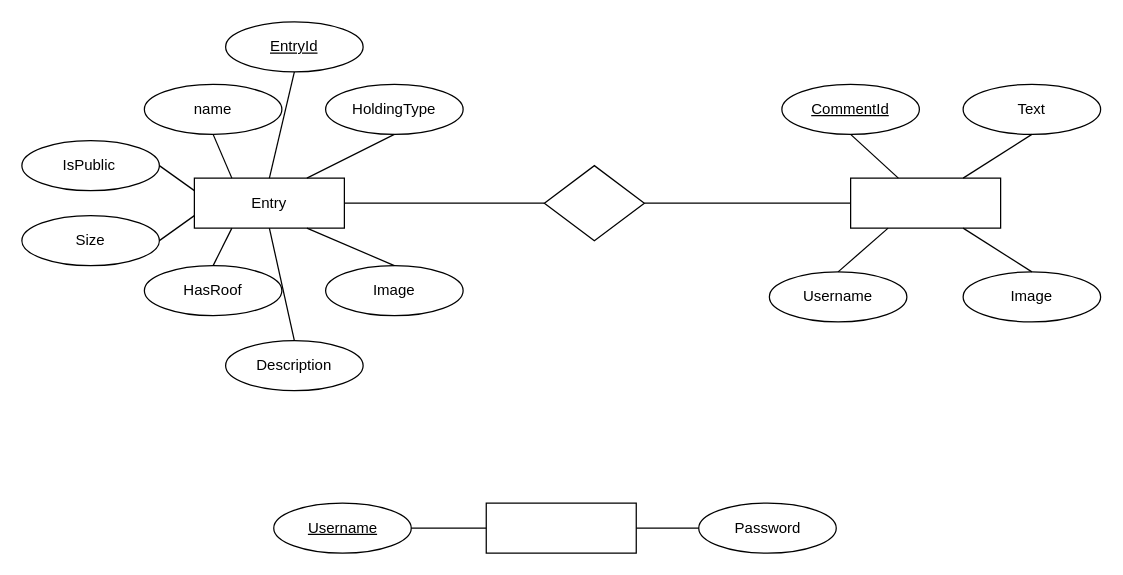
This 1123x575 diagram has some shape labels left out. Here are the shapes that lost their labels. From the top down, the centre of each, then its label:
the point at 593,202: has
the point at 925,202: Comment
the point at 560,527: User
